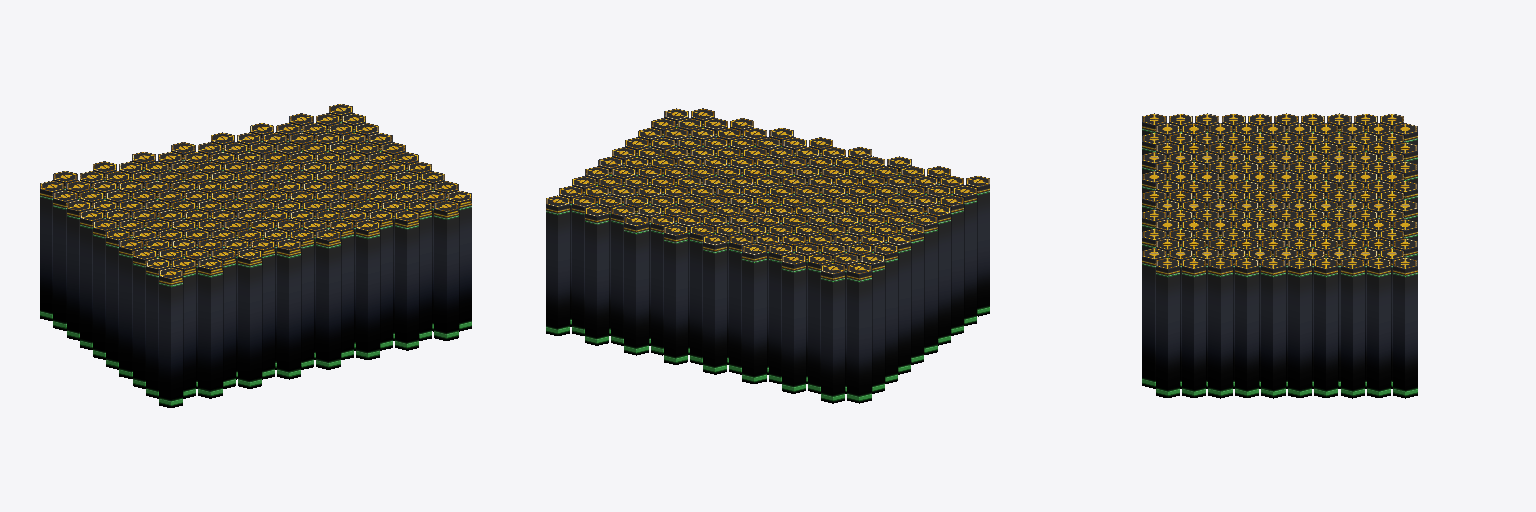
3 views of the same model, side by side, from view 1: azimuth 30°, elevation 25°; view 2: azimuth 150°, elevation 25°; view 3: azimuth 270°, elevation 25° (orthographic).
Parts seen in each view (by area): view 1: HexPos; view 2: HexPos; view 3: HexPos.
Part boxes in pixels (left/top/right/bottom): HexPos: left=40, top=104, right=471, bottom=407; HexPos: left=546, top=108, right=989, bottom=403; HexPos: left=1142, top=113, right=1417, bottom=398.
Size of the model in its own units: 6.98 by 2.7 by 5.21.
1 materials, 1 textured.